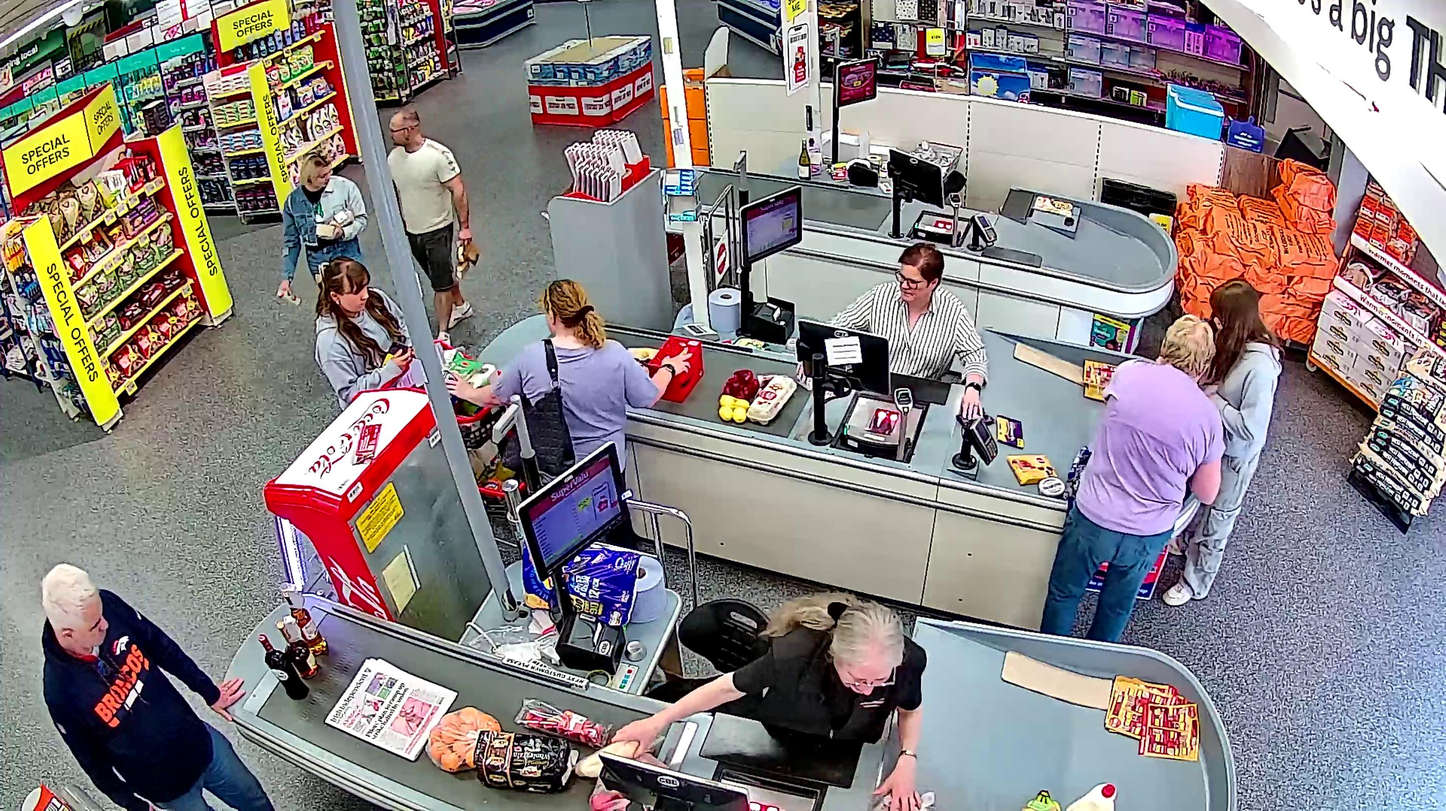carrying-item: (312, 205, 356, 241), (454, 234, 480, 278), (277, 281, 301, 308)
occupied-checkout-counter: (515, 441, 930, 811), (734, 178, 1001, 497)
person: (387, 108, 473, 346), (278, 153, 369, 293)
person-with-carrying-item: (387, 107, 480, 347), (276, 152, 369, 308)
vacant-checkout-counter: (829, 51, 1016, 247)
